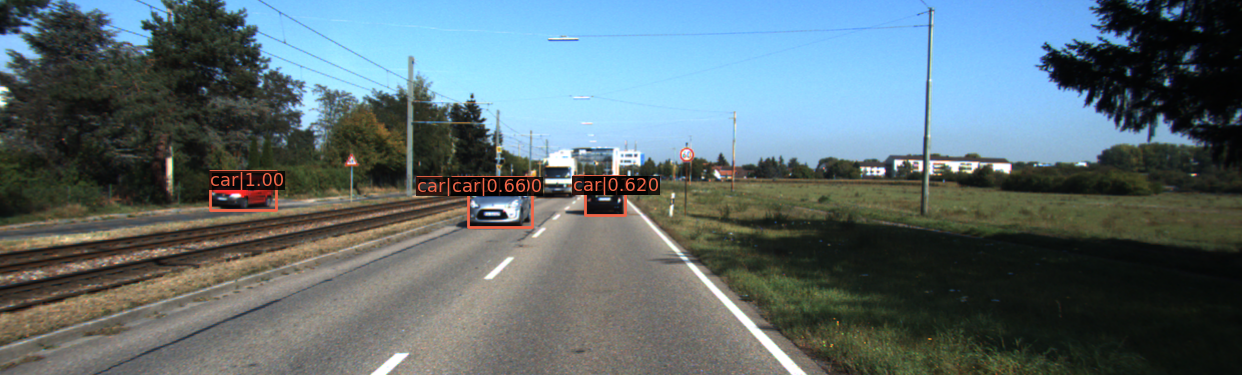car: (470, 180, 534, 230), (212, 175, 275, 211), (586, 178, 626, 217)
